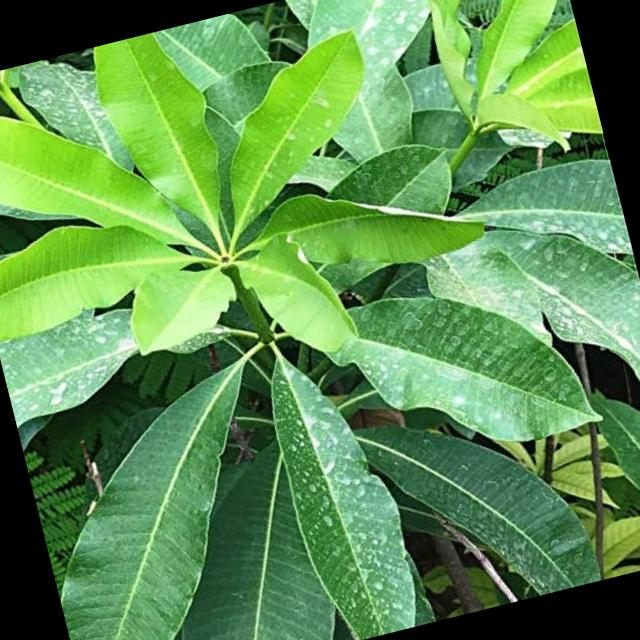Indian Pulai: (71, 241, 615, 640), (0, 2, 427, 402), (295, 0, 640, 430)
